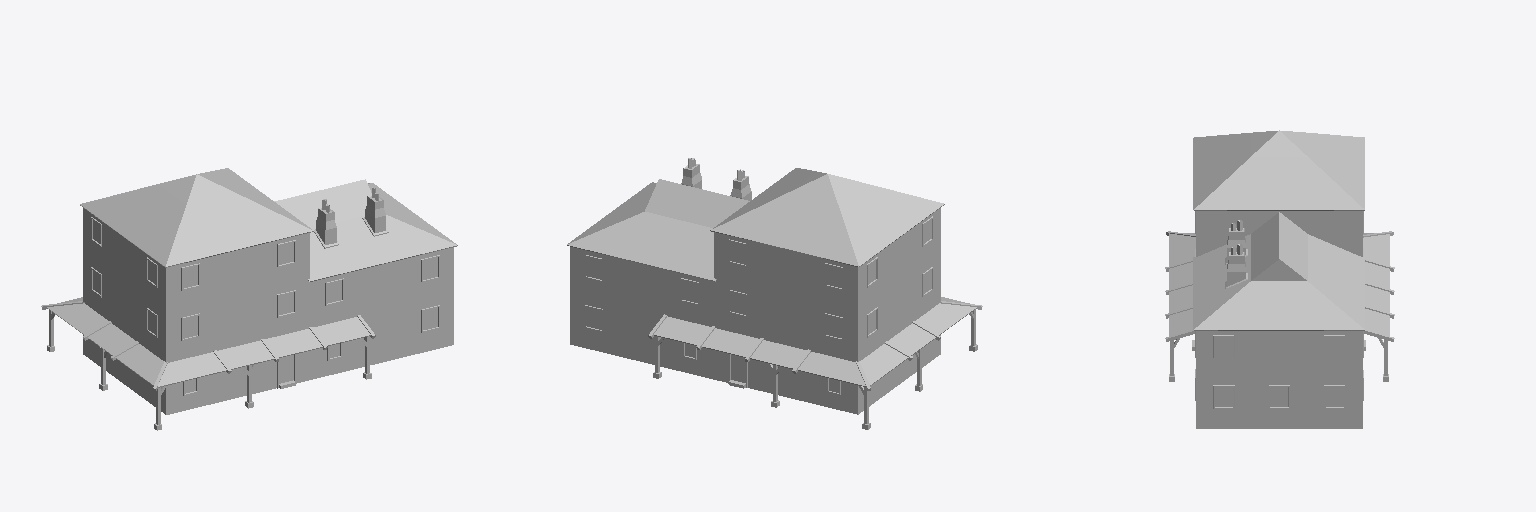
The model's file is medieval_building_7.obj.
The picture shows the model from 3 angles: view 1: azimuth 30°, elevation 25°; view 2: azimuth 150°, elevation 25°; view 3: azimuth 270°, elevation 25°; orthographic projection.
Parts seen in each view (by area): view 1: objobjbuilding_; view 2: objobjbuilding_; view 3: objobjbuilding_.
Part boxes in pixels (x1,y1,x2,y2): objobjbuilding_: (41,168,457,430); objobjbuilding_: (567,158,982,429); objobjbuilding_: (1165,130,1394,428).
Size of the model in its own units: 66.24 by 38.45 by 41.34.